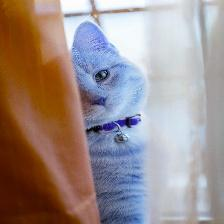kedo: (67, 18, 147, 224)
